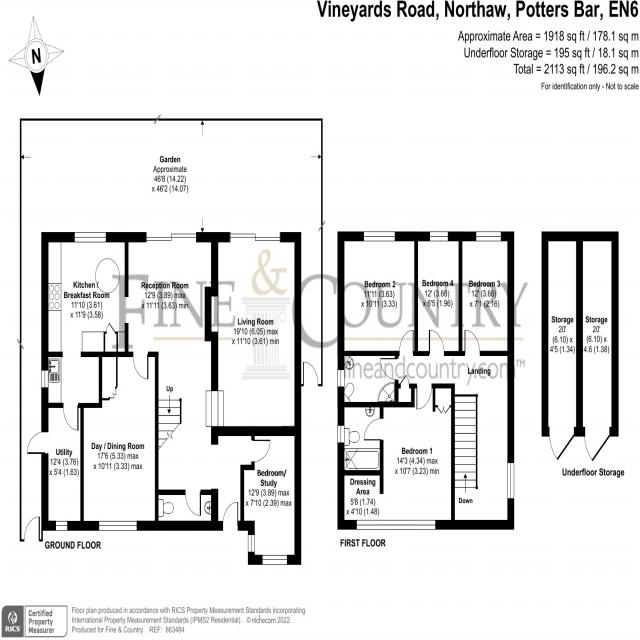DOOR: (27, 430, 49, 455), (222, 501, 239, 531), (251, 439, 271, 463), (133, 351, 149, 380), (63, 403, 79, 431), (364, 418, 383, 441), (416, 383, 432, 410), (185, 489, 201, 516), (464, 330, 480, 356), (429, 330, 445, 356), (380, 357, 398, 380), (303, 361, 319, 386), (399, 330, 414, 356)
ROOM: (41, 232, 129, 431), (337, 384, 455, 530), (80, 352, 159, 531), (337, 231, 418, 356), (240, 426, 301, 565), (458, 231, 514, 356), (414, 231, 462, 356)
SLIDING DOOR: (145, 230, 201, 246), (228, 229, 284, 245)
WINDOW: (356, 519, 436, 530), (99, 520, 138, 532), (74, 231, 107, 243), (363, 231, 395, 242), (507, 462, 515, 499), (262, 554, 288, 565), (476, 231, 501, 241), (430, 232, 448, 241), (337, 369, 345, 388), (247, 534, 255, 553), (337, 425, 345, 443), (41, 370, 49, 388), (55, 521, 68, 531)
